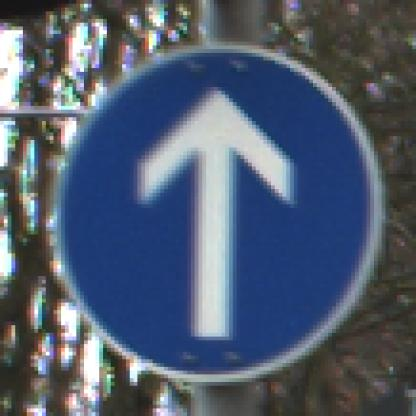AheadOnly: (39, 39, 383, 383)
